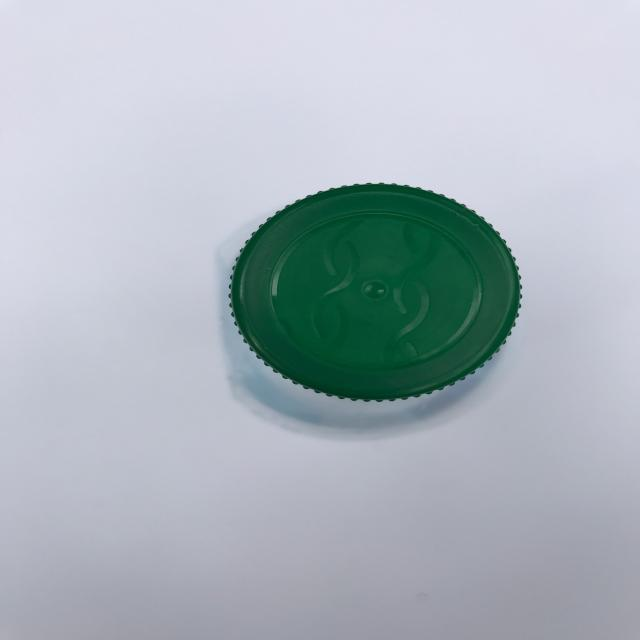plastic: (209, 181, 528, 440)
